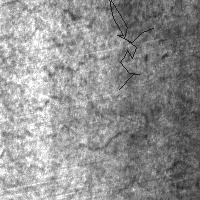crazing: (1, 2, 158, 79), (1, 91, 150, 163), (109, 0, 153, 89)
